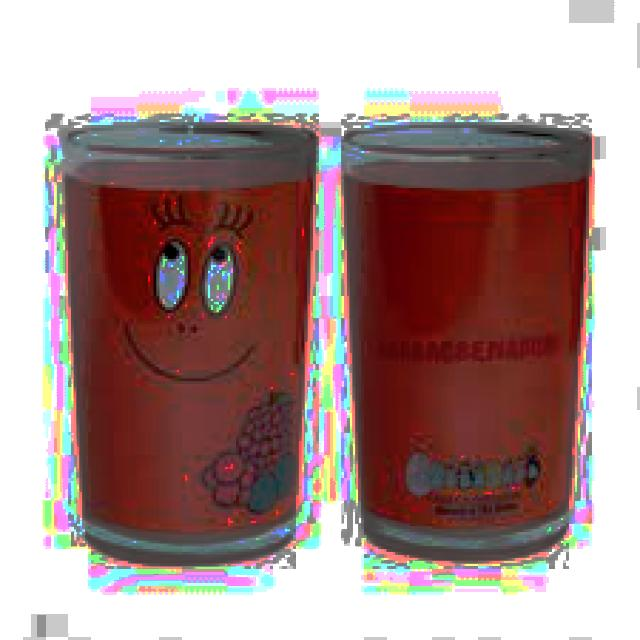drink: (57, 117, 324, 569), (336, 116, 597, 574)
